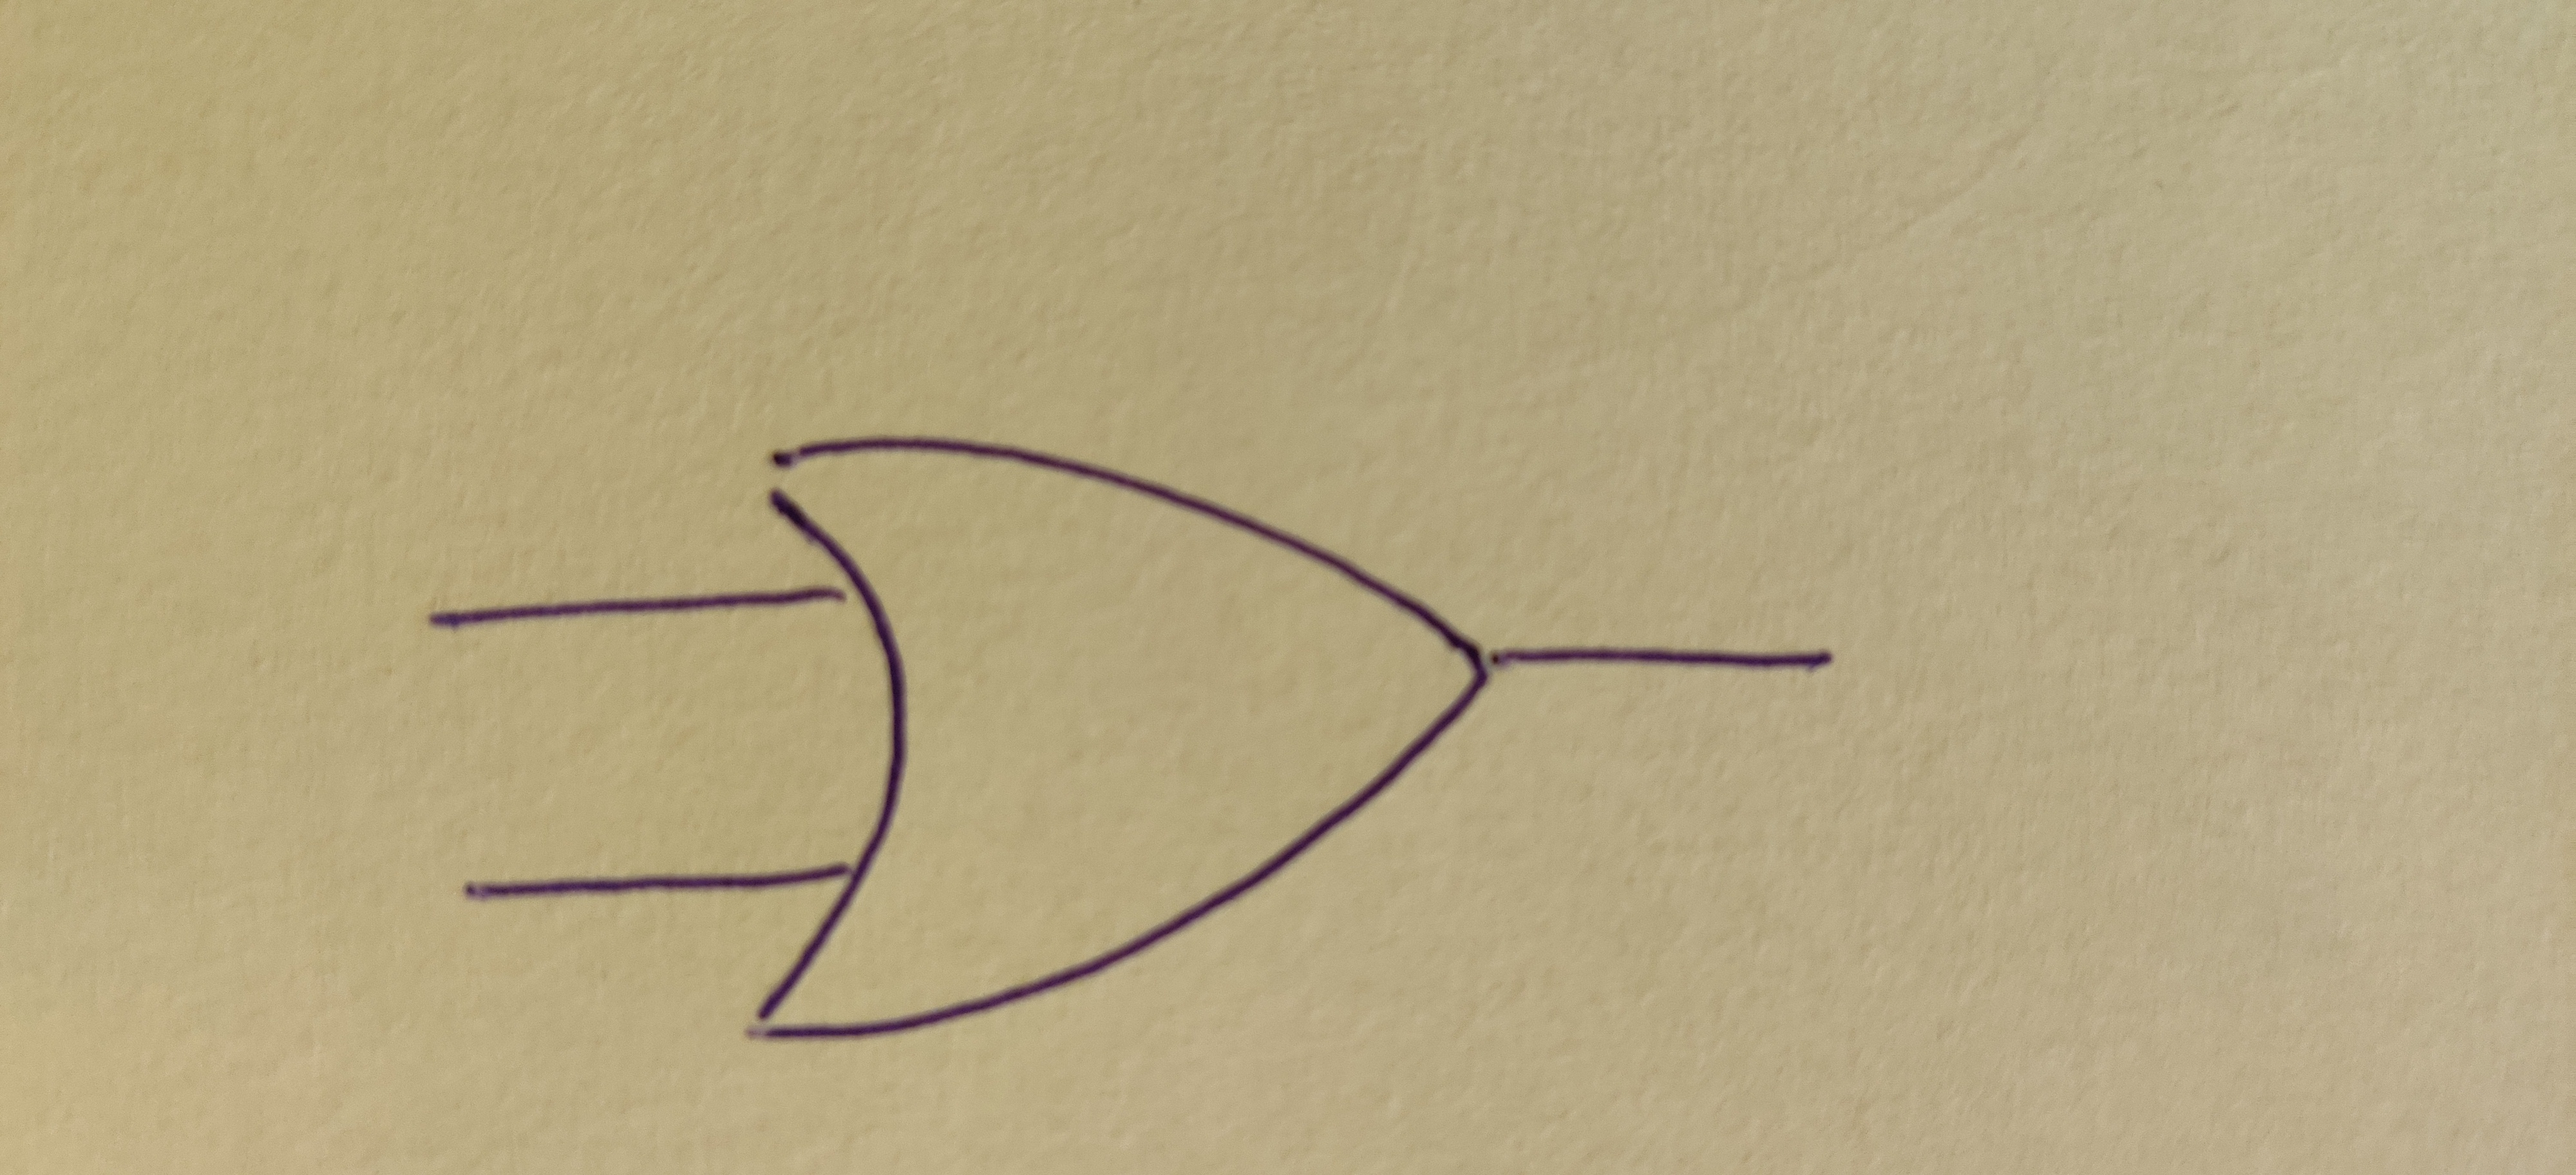or: (749, 437, 1495, 1037)
